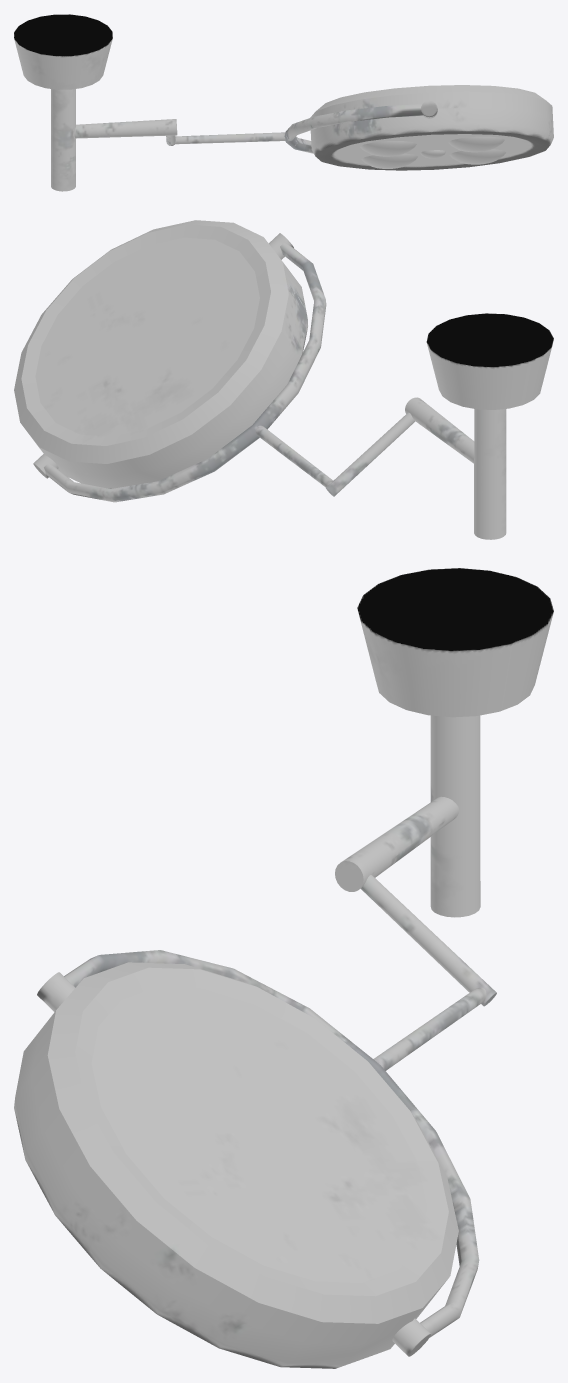
File: surgical_lamp.glb
The picture shows the model from 3 angles, top to bottom: view 1: azimuth 30°, elevation 25°; view 2: azimuth 150°, elevation 25°; view 3: azimuth 270°, elevation 25°; orthographic projection. The views are drawn at different scales.
Parts seen in each view (by area): view 1: surgical_lamp; view 2: surgical_lamp; view 3: surgical_lamp.
Part boxes in pixels (left/top/right/bottom): surgical_lamp: left=14, top=14, right=553, bottom=191; surgical_lamp: left=14, top=220, right=553, bottom=539; surgical_lamp: left=14, top=568, right=553, bottom=1368.
Bounding box in the file's own units: 1.65 × 0.7044 × 0.8509.
Materials: 1 (1 with a texture image).
